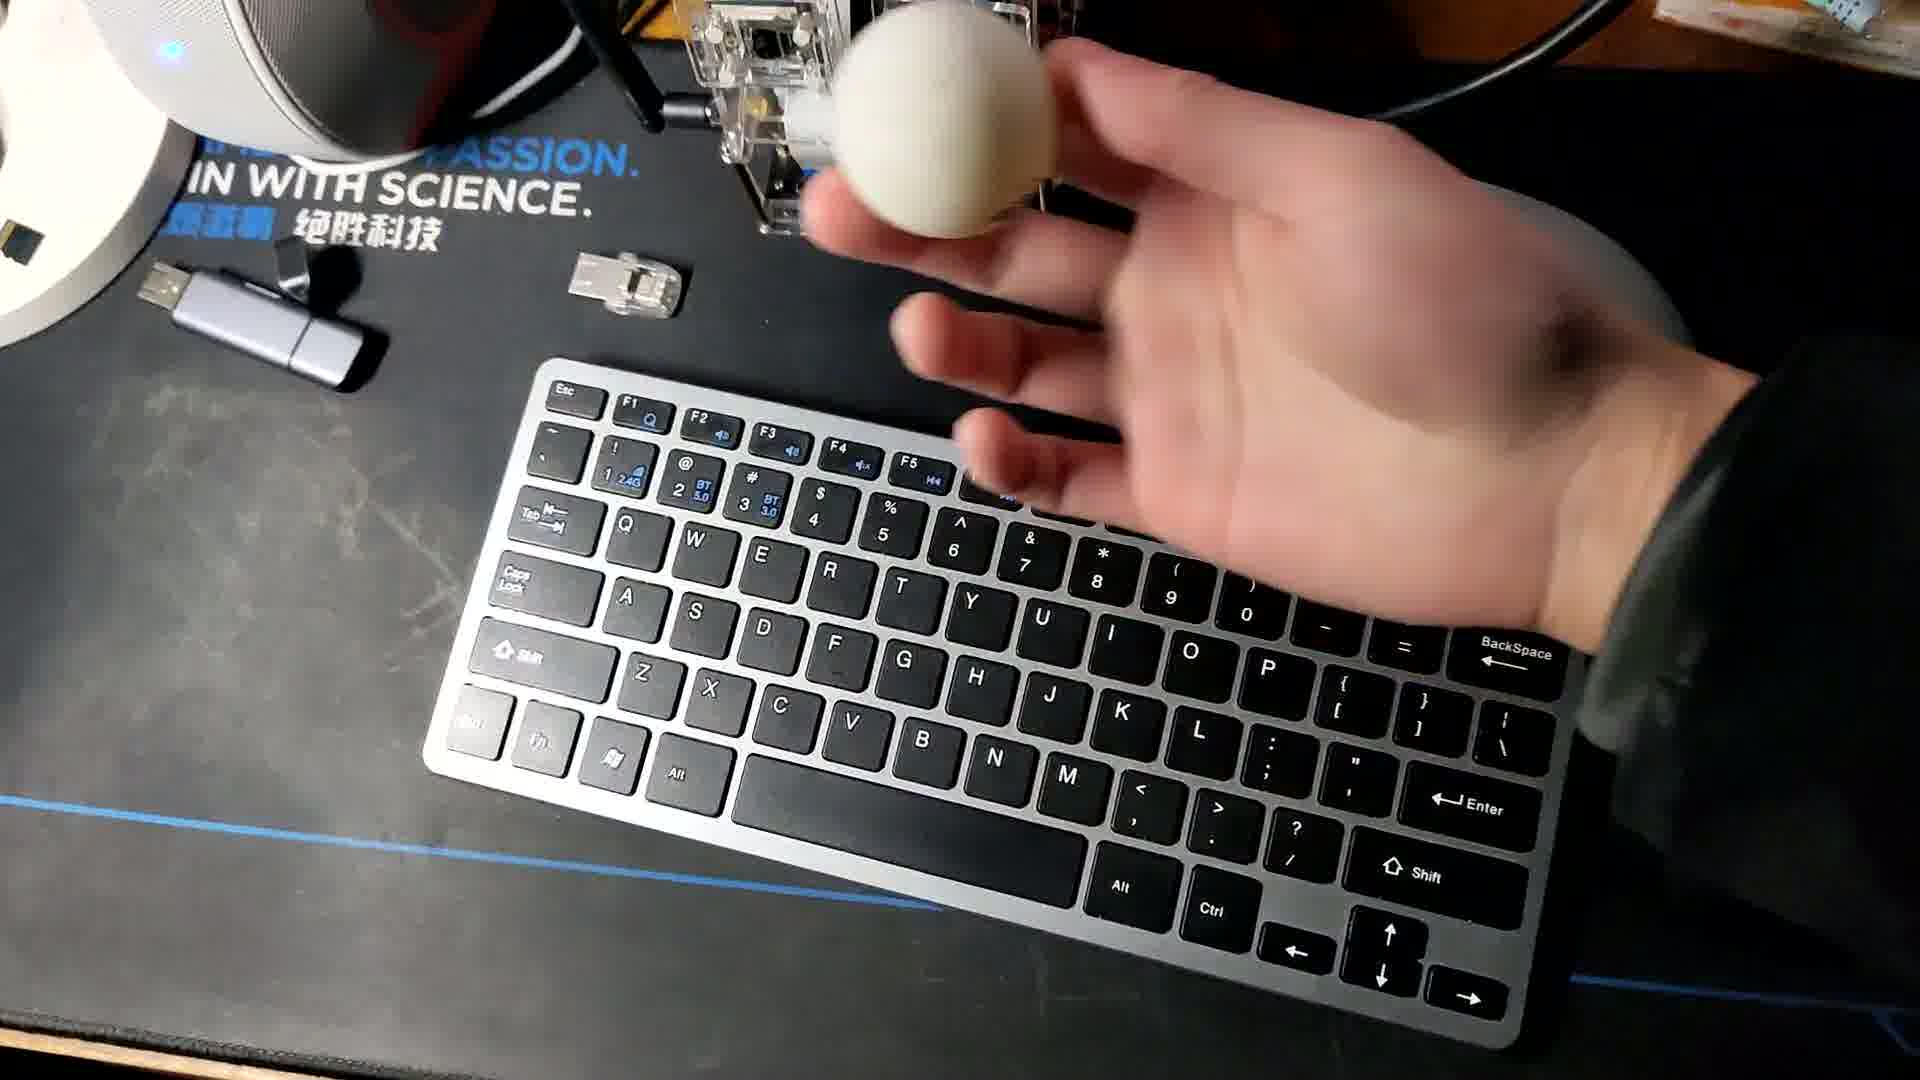Ball: (827, 5, 1069, 244)
